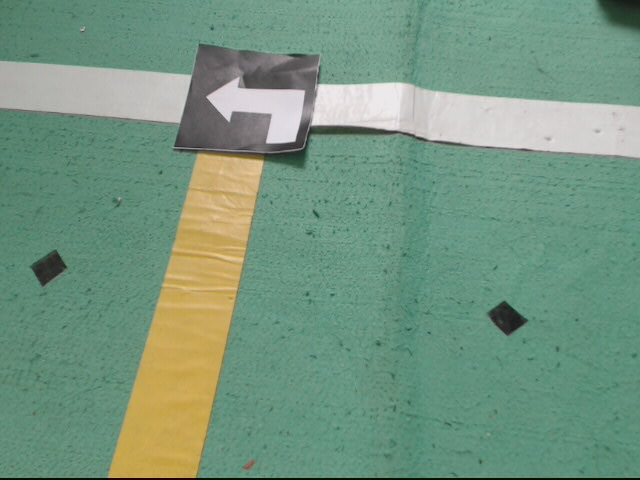left: (173, 44, 321, 158)
